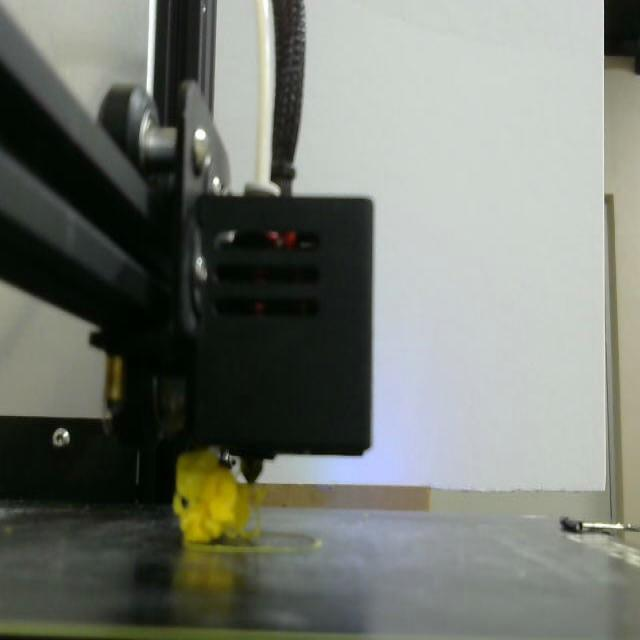spaghetti: (174, 452, 250, 542)
